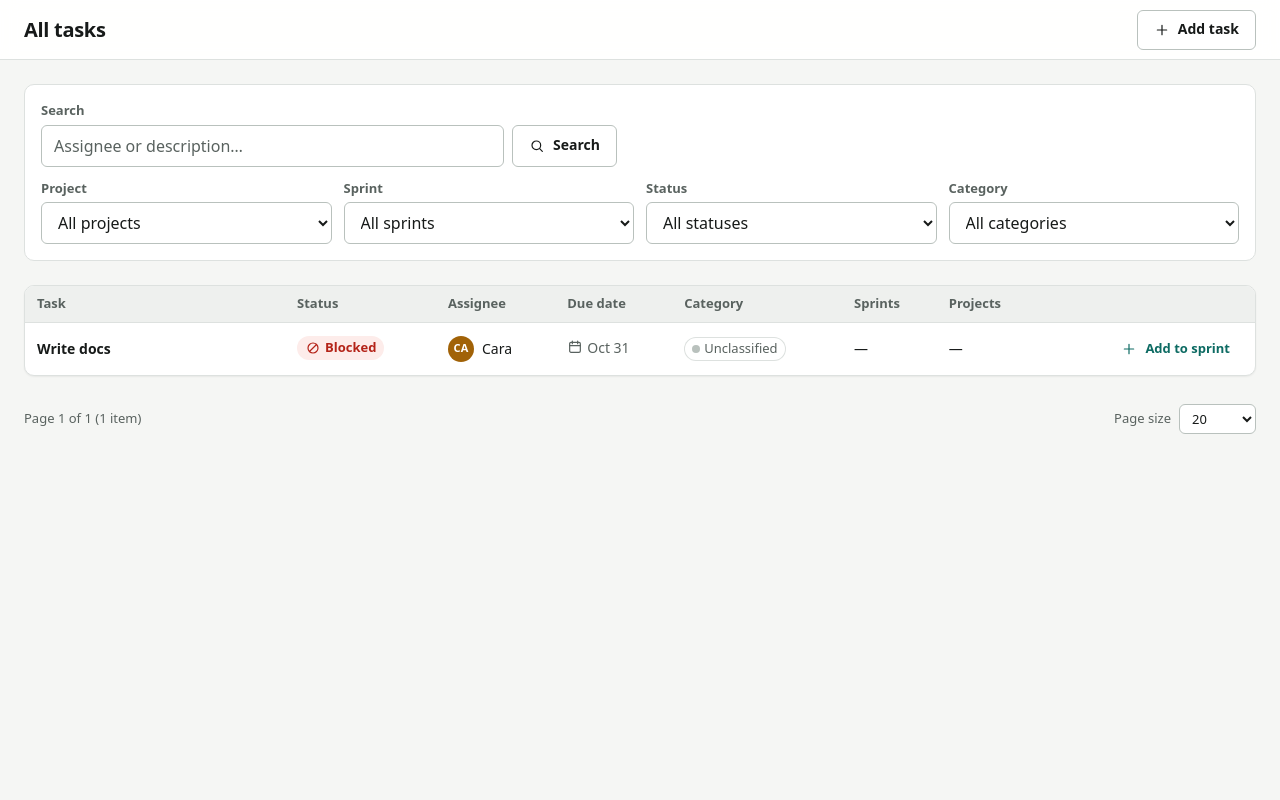
Test: TaskManager › shows the status and updates in the details view
Click the button named "View task". click: (155, 348)
box: [37,330,273,366]
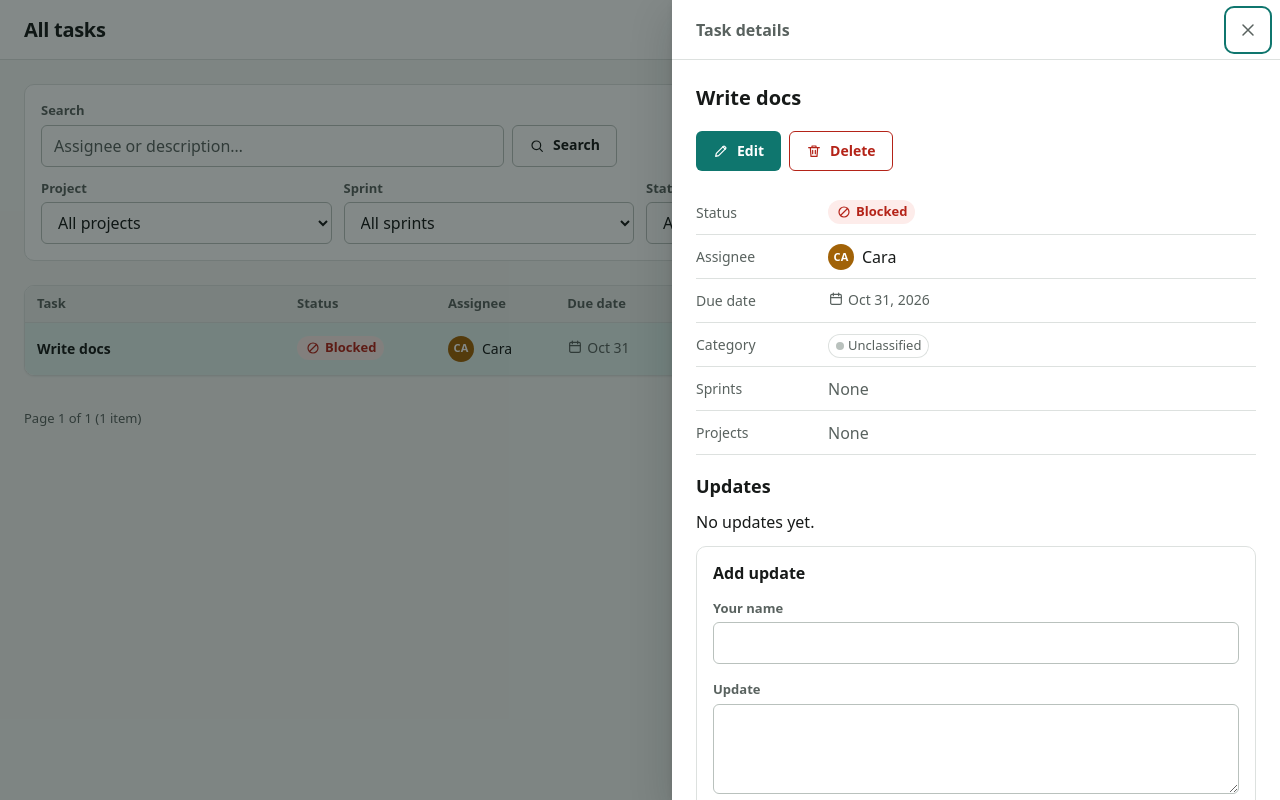
Now the dialog "Task details" shows "Blocked", box [856,202,907,220]
Now the heading "Updates" is shown, box [696,474,771,498]
Now the text "No updates yet." is shown, box [696,511,814,533]
